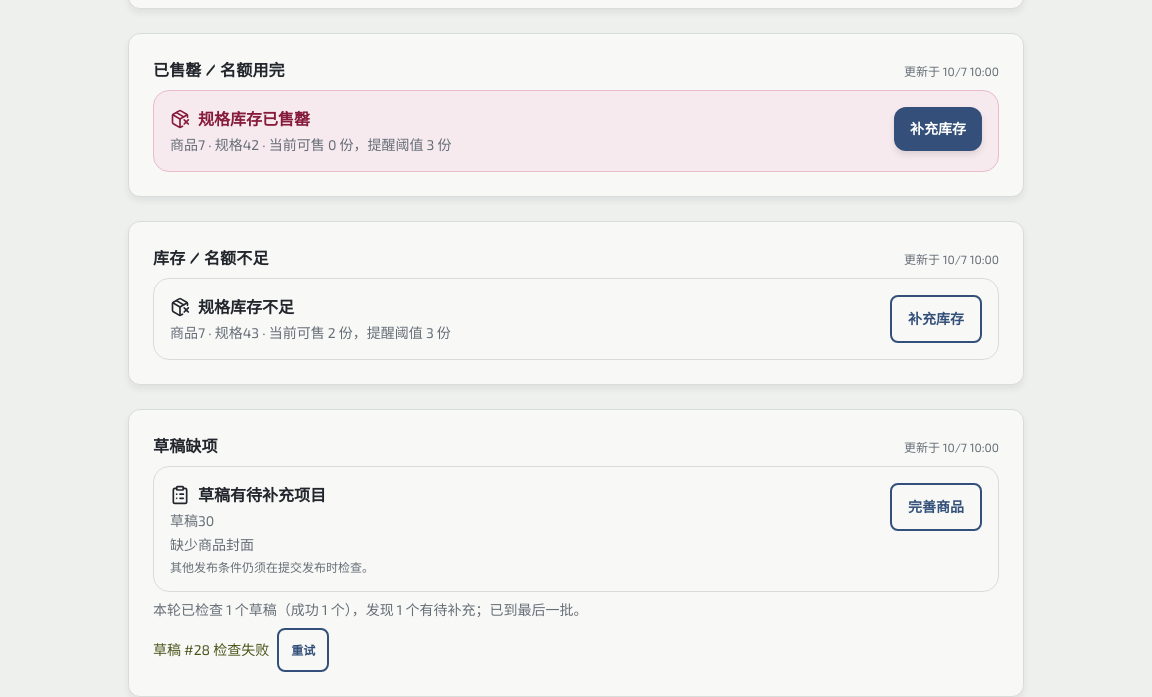
WorkbenchPage › a single-item 404 removes only that card
(page scrolled)
What coordinates should you click on to do the following:
click the button with test id "workbench-draft-retry-28"
I would click on:
 (303, 650)
Its box is [277,628,329,672].
(page scrolled)
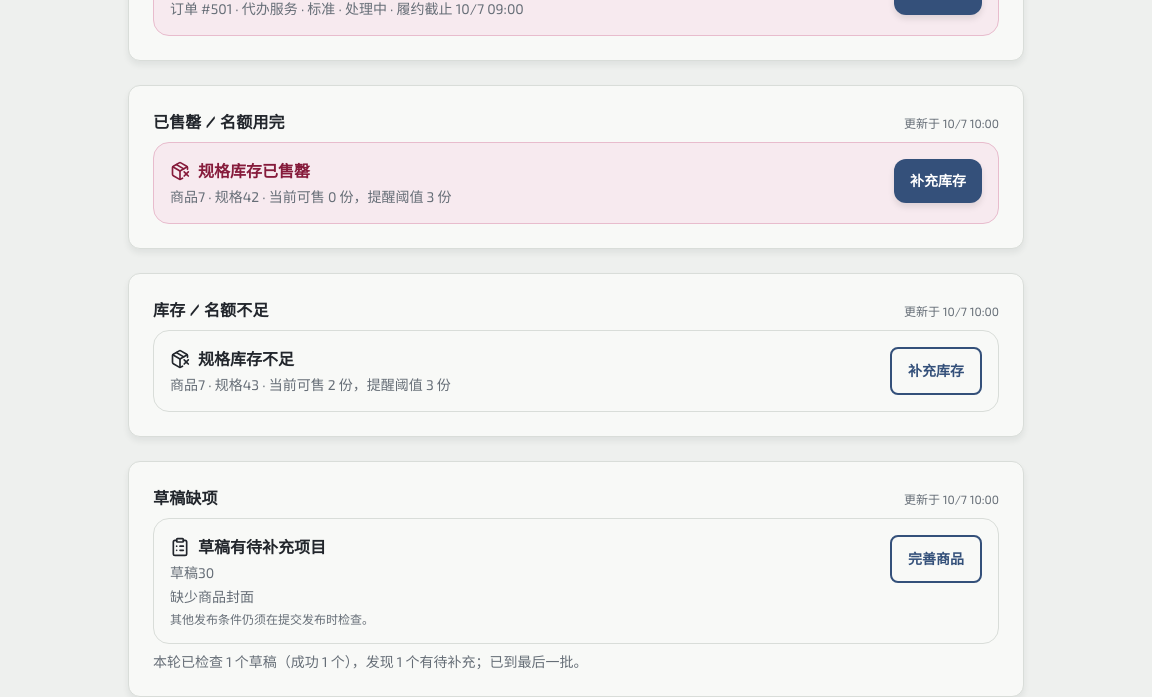
Expected: the list item with test id "workbench-card-draft_incomplete:30" is shown, [153,518,999,644]
Expected: the list with test id "workbench-draft-failures" is gone
